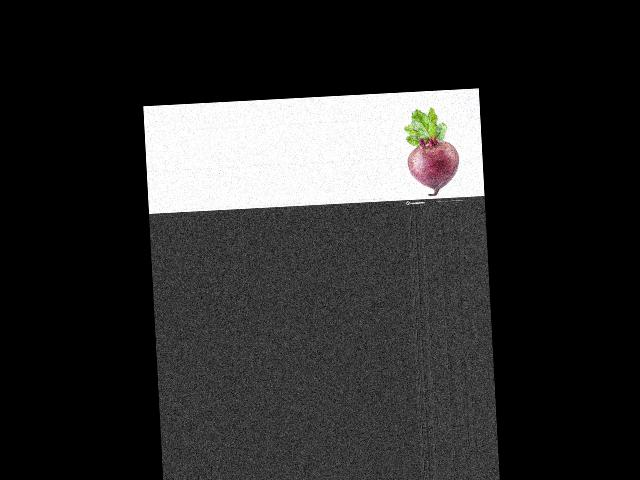beet: (403, 105, 461, 196)
